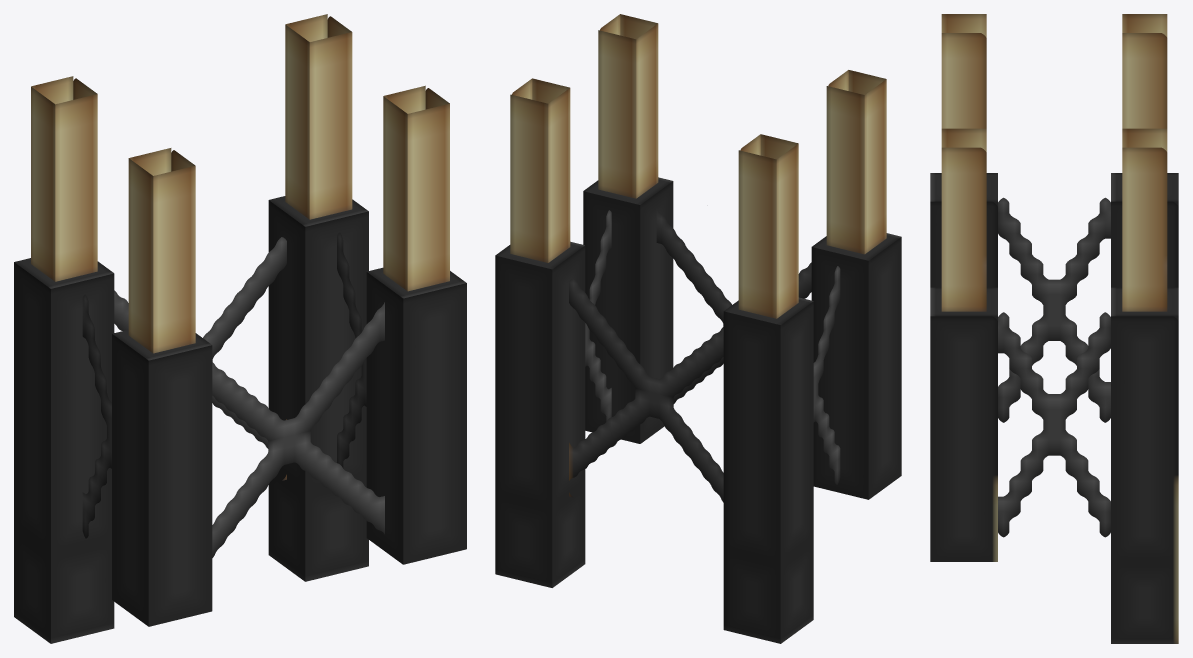
Rendered from huge_pivot.obj.
3 views of the same model, side by side, from view 1: azimuth 30°, elevation 25°; view 2: azimuth 150°, elevation 25°; view 3: azimuth 270°, elevation 25° (orthographic). The views are drawn at different scales.
Parts seen in each view (by area): view 1: huge_pivot; view 2: huge_pivot; view 3: huge_pivot.
Boxes of the visible parts, left/top/right/bottom form: huge_pivot: left=14, top=14, right=466, bottom=643; huge_pivot: left=495, top=14, right=901, bottom=643; huge_pivot: left=930, top=14, right=1178, bottom=643.
Bounding box in the file's own units: 1.88 × 3 × 1.38.
